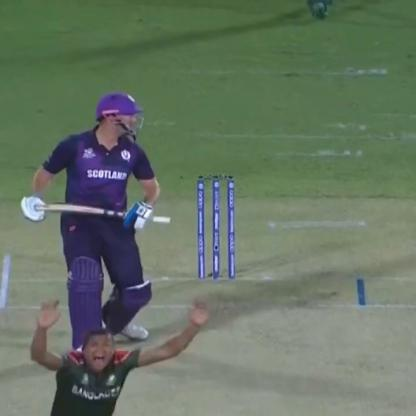bat: (29, 195, 173, 229)
pitch: (1, 243, 405, 409)
